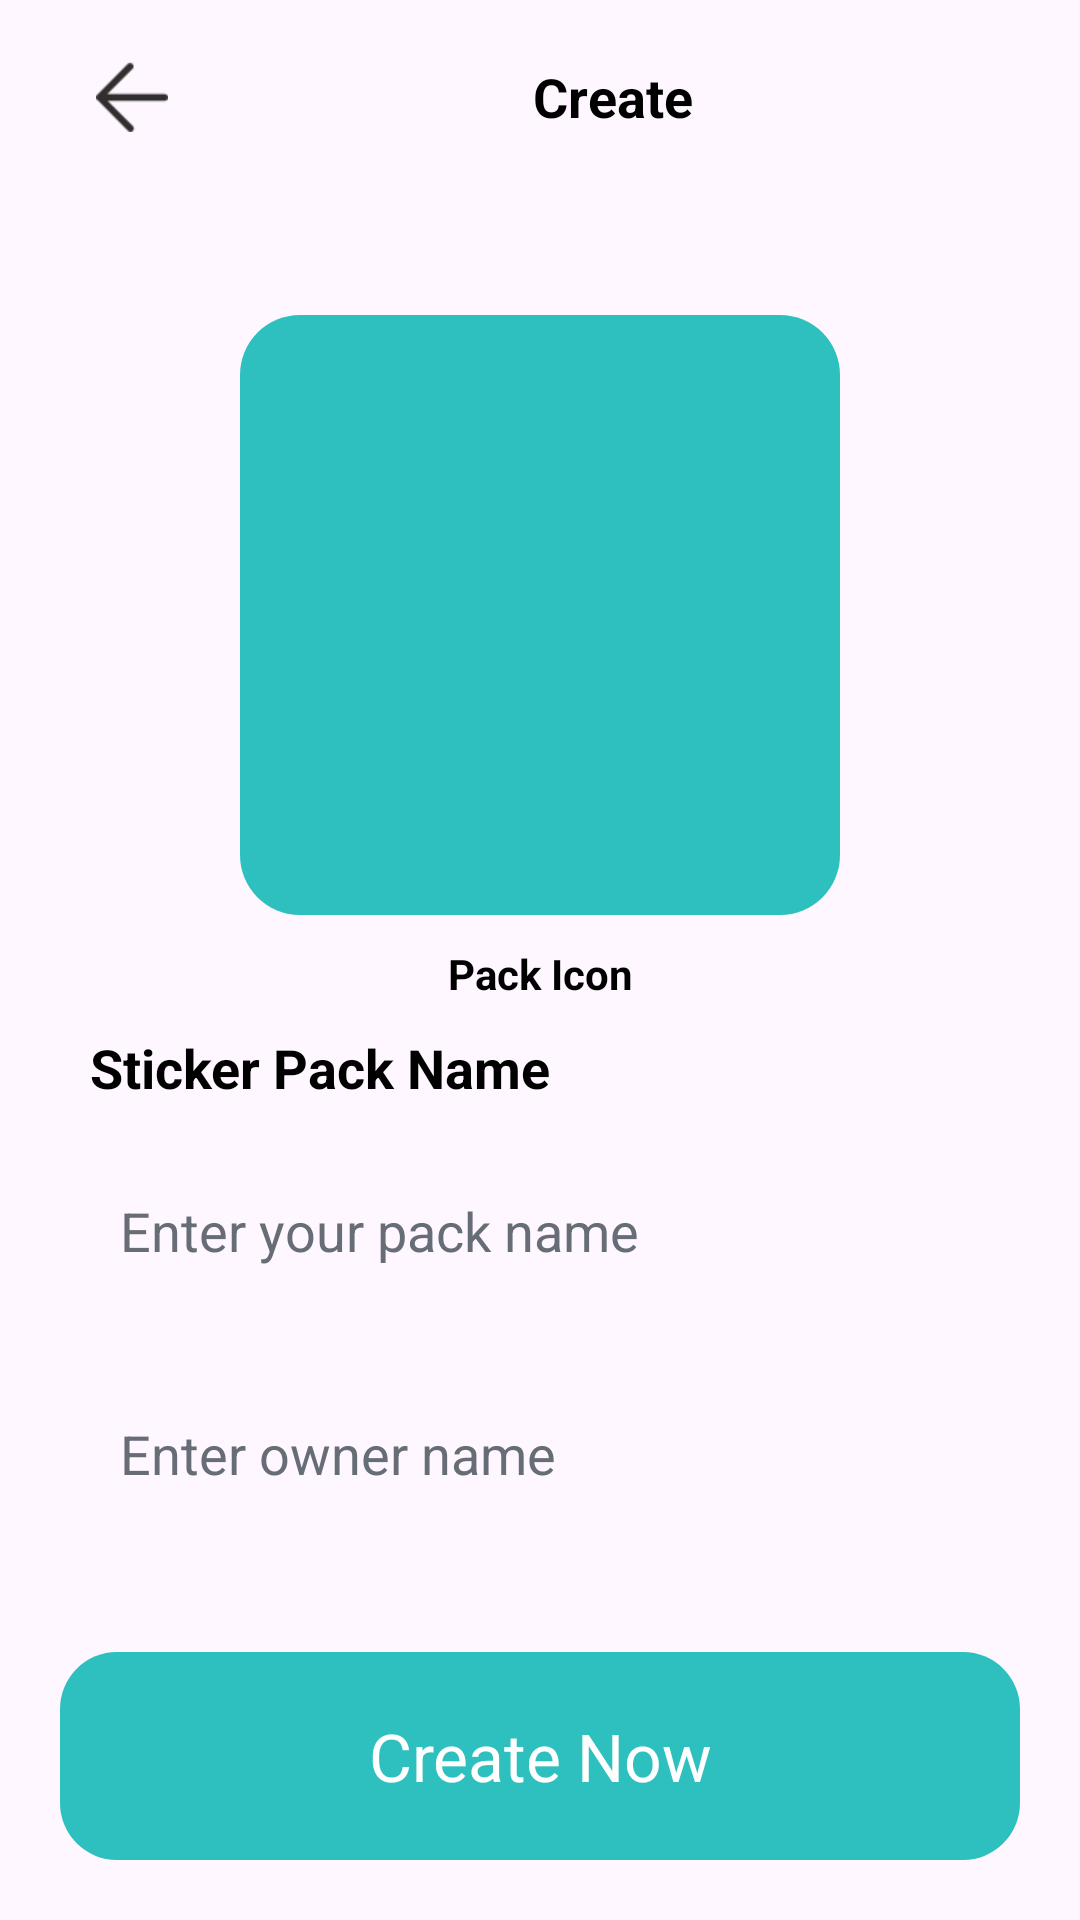

Point at icon controls on the screen. Image size 1080px×1920px, points as [x,y].
back: [132,97]
